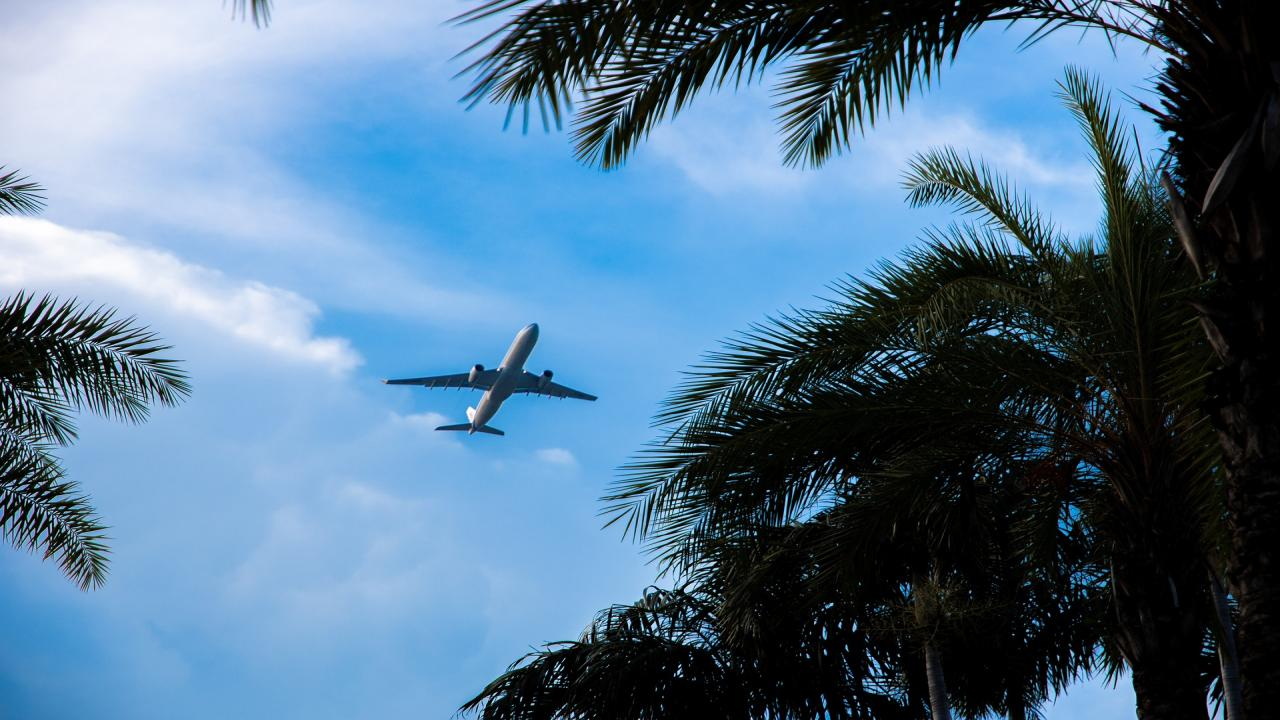Airplane: (368, 313, 612, 443)
